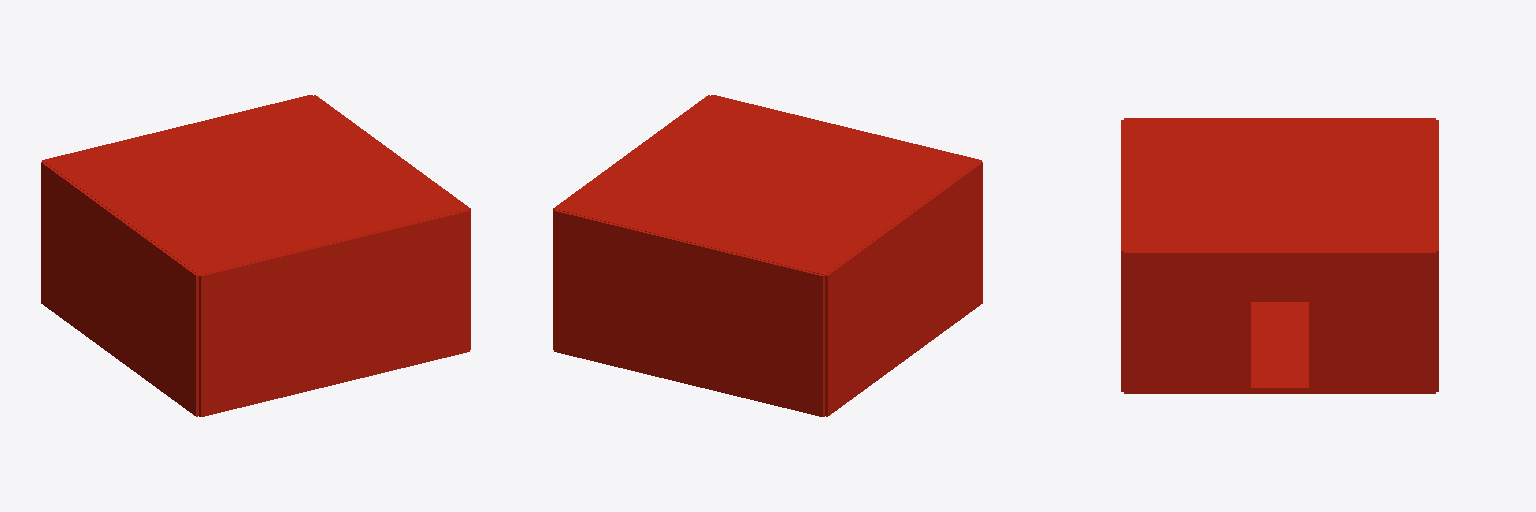
File: testbed2.obj
The picture shows the model from 3 angles: view 1: azimuth 30°, elevation 25°; view 2: azimuth 150°, elevation 25°; view 3: azimuth 270°, elevation 25°; orthographic projection.
Parts seen in each view (by area): view 1: Cube_Cube.001; view 2: Cube_Cube.001; view 3: Cube_Cube.001.
Part boxes in pixels (x1,y1,x2,y2): Cube_Cube.001: (41, 95, 470, 416); Cube_Cube.001: (553, 95, 982, 416); Cube_Cube.001: (1121, 118, 1438, 393).
Size of the model in its own units: 102 by 50.2 by 102.